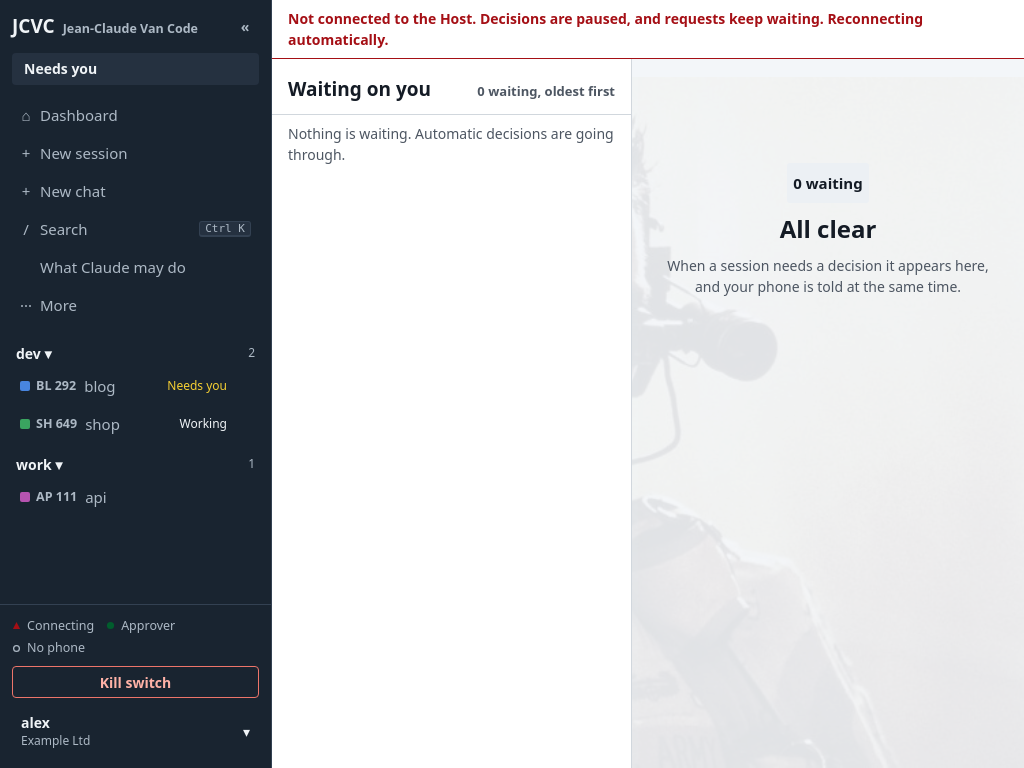
it: the sidebar › keeps every other page in the profile menu, with the theme and help
The width and height of the screenshot is (1024, 768).
Click the button with aria-label "Your profile and settings: alex". click: [136, 731]
box: top-left (12, 706), bottom-right (259, 756)
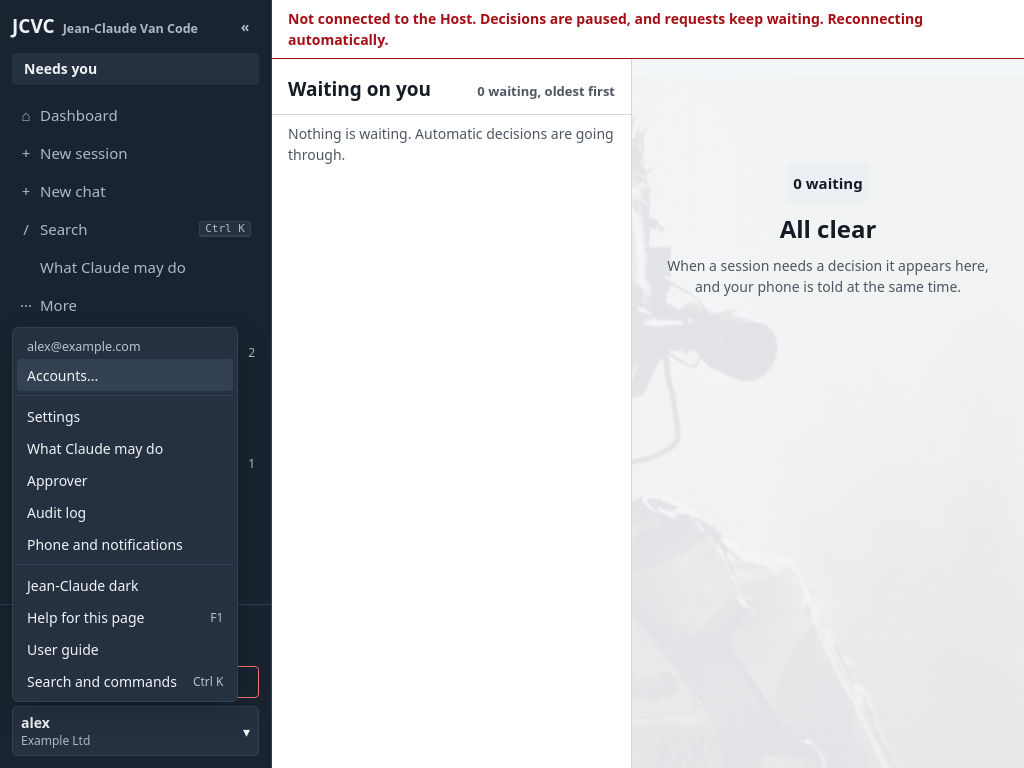
expect the text "alex@example.com" is shown: met, box top-left (27, 338), bottom-right (141, 355)
Press ArrowDown in the menu, box top-left (12, 327), bottom-right (238, 702)
Click the menu item "Jean-Claude dark". click: [125, 585]
box: top-left (17, 569), bottom-right (233, 601)
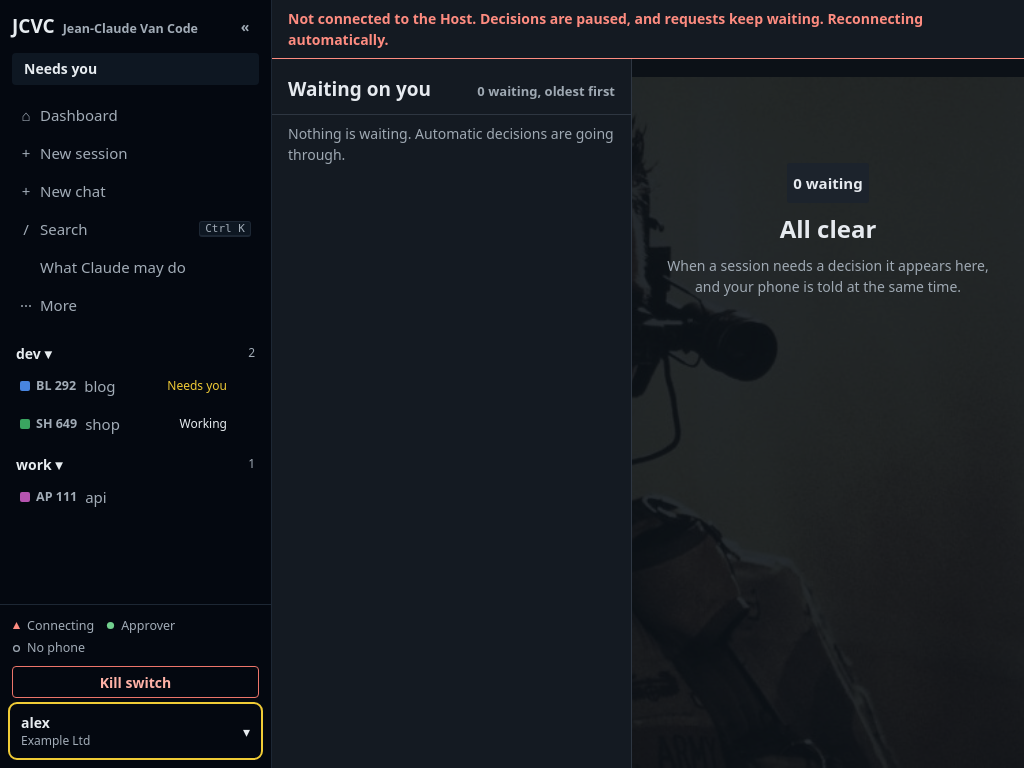
expect the menu is gone: met
